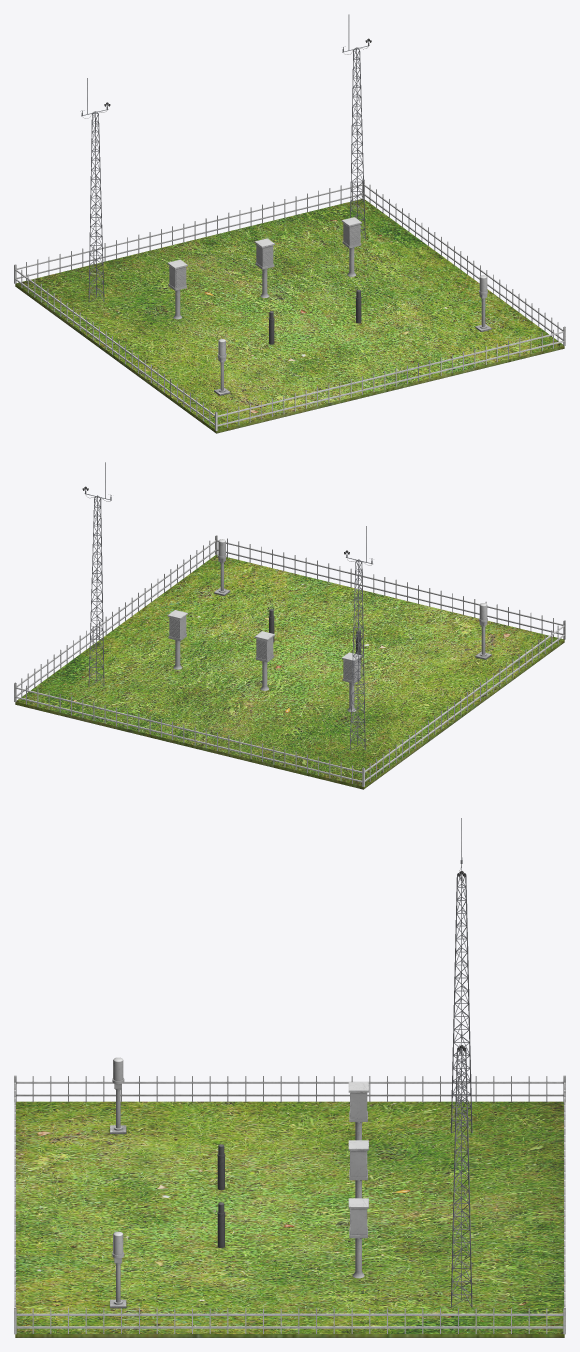
Rendered from QXZLZ_F002_GLB.glb.
3 renders of one model, top to bottom at view 1: azimuth 30°, elevation 25°; view 2: azimuth 150°, elevation 25°; view 3: azimuth 270°, elevation 25°, orthographic. The views are drawn at different scales.
Visible parts, largest first — view 1: DM01, mirrored_x_1, DM02, sweep2.001, sweep2, sweep5.001, sweep5; view 2: DM01, mirrored_x_1, DM02, sweep2.001, sweep2, sweep5.001, sweep5; view 3: DM01, mirrored_x_1, DM02, sweep2, sweep2.001, sweep5, sweep5.001.
Part boxes in pixels (left/top/right/bottom): DM01: left=16, top=198, right=563, bottom=430; mirrored_x_1: left=15, top=182, right=564, bottom=427; DM02: left=15, top=284, right=564, bottom=433; sweep2.001: left=88, top=113, right=104, bottom=301; sweep2: left=350, top=49, right=365, bottom=238; sweep5.001: left=89, top=114, right=103, bottom=301; sweep5: left=351, top=48, right=364, bottom=237; DM01: left=16, top=554, right=563, bottom=786; mirrored_x_1: left=15, top=538, right=564, bottom=783; DM02: left=15, top=640, right=564, bottom=789; sweep2.001: left=350, top=561, right=365, bottom=750; sweep2: left=88, top=496, right=104, bottom=686; sweep5.001: left=351, top=561, right=364, bottom=749; sweep5: left=89, top=498, right=103, bottom=686; DM01: left=16, top=1101, right=563, bottom=1333; mirrored_x_1: left=14, top=1076, right=565, bottom=1333; DM02: left=15, top=1334, right=564, bottom=1337; sweep2: left=451, top=1048, right=472, bottom=1307; sweep2.001: left=451, top=874, right=472, bottom=1133; sweep5: left=452, top=1049, right=471, bottom=1306; sweep5.001: left=452, top=874, right=471, bottom=1132.
Size of the model in its own units: 241 by 150 by 241.
Materials: 2 (2 with a texture image).
